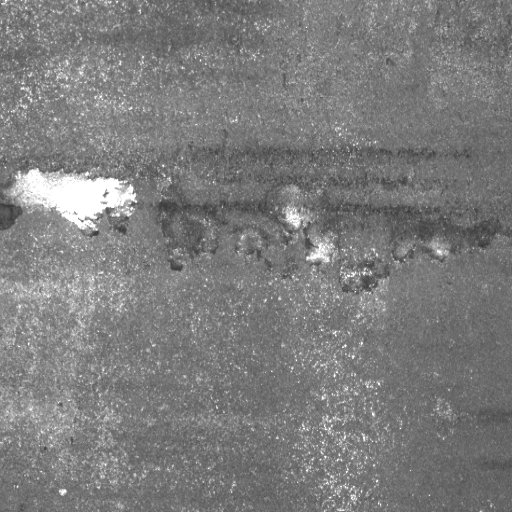qiaopi: (266, 178, 505, 293), (3, 159, 135, 237)
